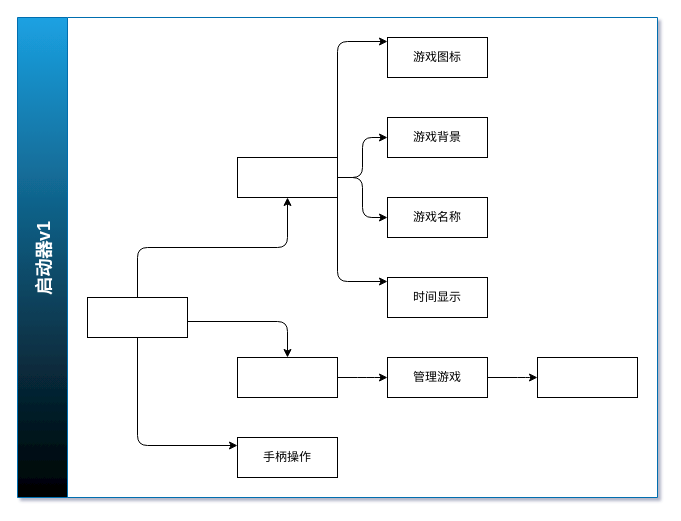
This 681x521 diagram has some shape labels left out. The centre of each missing label's shape, as x and y in pixels:
添加/删除/修改: the point at 587,377
游戏列表: the point at 287,177
界面: the point at 137,317
设置: the point at 287,377
